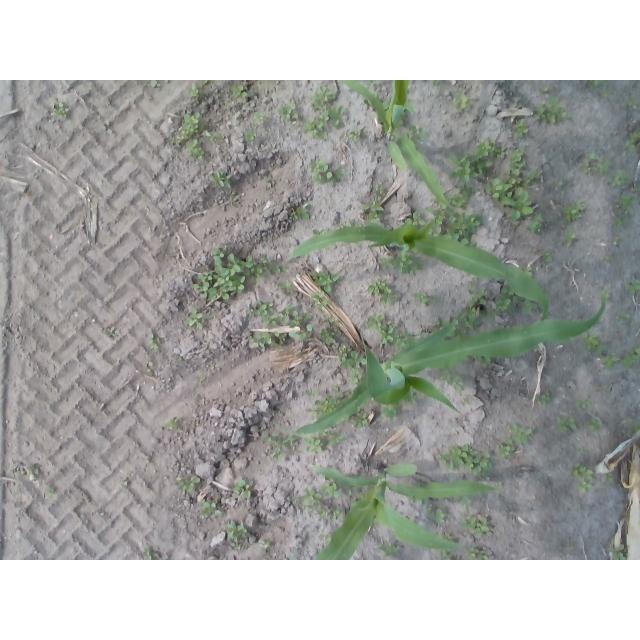Maize: (275, 294, 605, 436), (291, 220, 549, 320), (307, 462, 498, 560), (339, 80, 454, 210)
Weeds: (485, 145, 544, 231), (194, 247, 267, 301), (427, 185, 485, 246), (450, 139, 506, 182), (434, 443, 492, 477), (465, 279, 488, 329), (261, 431, 296, 462), (534, 97, 570, 123), (173, 113, 199, 148), (304, 112, 329, 141), (581, 153, 612, 175), (310, 86, 335, 113), (463, 514, 490, 538), (289, 314, 312, 342), (311, 271, 339, 294), (402, 244, 422, 275), (307, 395, 338, 413), (507, 423, 531, 446), (439, 369, 462, 392), (563, 201, 586, 223), (227, 519, 249, 542), (245, 301, 275, 317), (497, 286, 514, 314), (621, 132, 640, 156), (309, 158, 327, 183), (10, 466, 39, 481), (367, 279, 394, 295), (341, 350, 367, 366), (408, 126, 426, 149), (249, 332, 272, 350), (185, 307, 203, 330), (607, 169, 629, 187), (362, 202, 385, 219), (302, 487, 322, 506), (200, 499, 221, 517), (377, 540, 400, 556), (585, 335, 604, 354), (235, 480, 254, 499), (395, 328, 413, 348), (177, 477, 201, 492), (51, 98, 69, 118), (572, 463, 593, 480), (209, 173, 232, 188), (303, 437, 323, 454), (512, 118, 529, 138), (328, 167, 345, 187), (556, 416, 577, 432), (405, 211, 427, 226), (621, 347, 639, 365), (282, 305, 299, 324), (382, 403, 403, 418), (330, 106, 345, 127), (190, 139, 205, 159), (380, 256, 401, 270), (322, 325, 338, 343), (608, 543, 625, 559), (621, 195, 638, 211), (601, 353, 619, 368), (291, 208, 311, 221), (278, 104, 294, 120), (624, 279, 640, 295), (312, 292, 328, 308), (529, 213, 543, 231), (379, 326, 393, 344), (353, 412, 368, 428), (429, 509, 445, 524), (453, 92, 468, 108), (367, 314, 384, 328), (328, 432, 344, 446), (500, 446, 517, 459), (329, 506, 342, 523), (348, 125, 361, 142), (324, 483, 339, 497), (338, 344, 351, 360), (252, 108, 264, 124), (101, 326, 117, 338), (268, 263, 281, 277), (578, 480, 592, 493), (573, 397, 591, 407), (414, 291, 429, 303), (279, 281, 294, 293), (147, 80, 169, 88), (275, 331, 286, 346), (149, 334, 159, 350), (264, 316, 277, 328), (233, 85, 244, 99), (587, 420, 601, 431), (566, 230, 575, 247), (351, 368, 361, 383), (190, 83, 200, 98), (163, 418, 178, 428), (476, 358, 491, 367), (523, 264, 534, 276), (404, 391, 416, 402), (540, 392, 551, 404), (316, 506, 327, 518), (102, 122, 113, 134), (380, 294, 396, 302), (375, 184, 383, 200), (321, 314, 335, 323), (600, 289, 612, 299), (258, 538, 270, 548), (307, 390, 320, 399), (339, 221, 358, 227), (467, 548, 478, 558), (141, 549, 151, 560), (244, 131, 256, 140), (588, 80, 601, 88), (616, 216, 624, 228), (618, 311, 631, 318), (318, 534, 331, 541), (529, 172, 539, 181), (464, 496, 472, 506), (605, 476, 615, 484), (196, 376, 206, 384), (121, 477, 129, 487), (478, 551, 486, 560), (544, 252, 552, 261), (147, 361, 153, 373), (267, 178, 273, 189), (289, 330, 297, 338), (48, 487, 57, 494), (202, 80, 214, 85), (567, 542, 574, 550), (632, 426, 640, 433), (540, 86, 548, 93), (174, 354, 182, 361), (194, 394, 199, 405), (626, 99, 635, 105), (292, 497, 299, 504), (555, 181, 563, 187), (603, 255, 610, 261), (210, 135, 216, 142), (495, 482, 503, 487), (243, 92, 248, 99), (321, 430, 328, 435), (577, 448, 584, 453), (428, 503, 432, 511), (293, 114, 298, 119), (334, 387, 339, 392), (614, 236, 618, 242)
